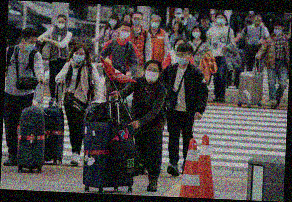mask_weared_incorrect: (201, 19, 209, 28)
with_mask: (144, 66, 160, 83), (175, 51, 189, 66), (24, 39, 37, 53), (72, 51, 85, 63), (119, 27, 131, 40), (131, 16, 143, 28), (149, 19, 160, 30), (173, 42, 184, 53), (56, 20, 66, 30), (273, 26, 283, 36), (216, 15, 225, 26), (108, 17, 118, 26), (191, 30, 201, 39), (174, 12, 182, 19), (223, 18, 228, 25)
without_mask: (253, 18, 263, 27), (183, 9, 191, 17), (123, 17, 131, 24), (172, 23, 179, 31), (211, 16, 217, 23)
